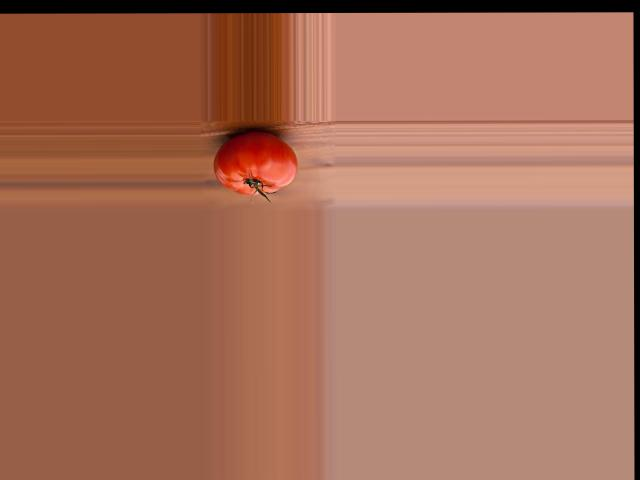tomato: (214, 131, 298, 195)
